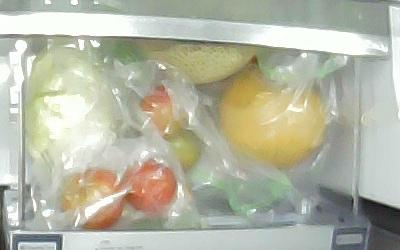cabbage_vinyl: (28, 49, 115, 159)
melon_vinyl: (140, 40, 256, 84)
pear_vinyl: (221, 70, 327, 168)
prune_vinyl: (60, 168, 124, 230), (119, 160, 177, 213)
tomato_vinyl: (138, 83, 187, 137), (165, 130, 201, 171)
